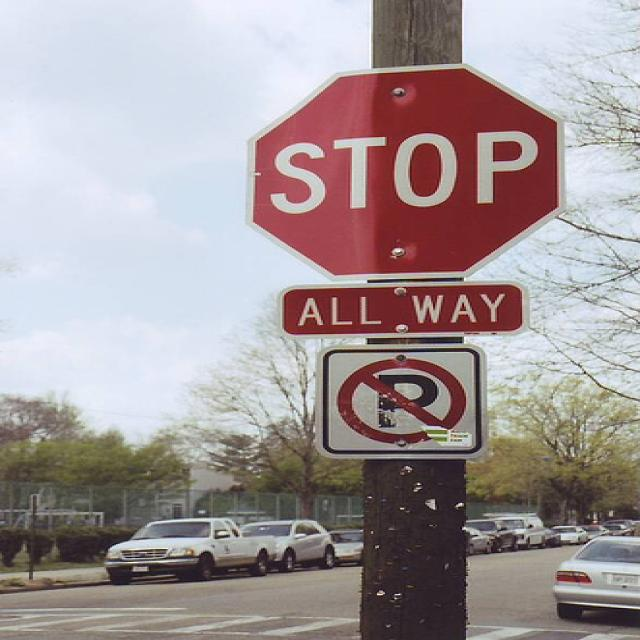Vehicle: (105, 518, 275, 584), (548, 536, 640, 621), (240, 518, 339, 574), (464, 518, 528, 552), (486, 516, 547, 550), (331, 528, 364, 564), (463, 526, 495, 555), (547, 525, 587, 546), (599, 526, 640, 536), (602, 520, 632, 531), (546, 529, 561, 548), (587, 524, 604, 540)
